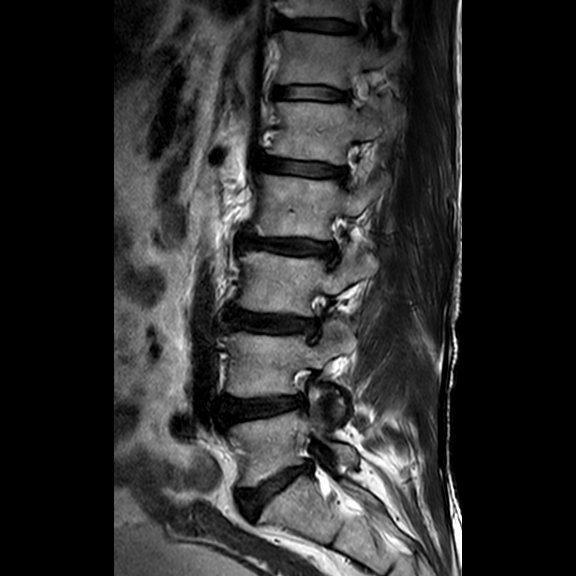RFS2: (293, 285, 337, 350), (284, 359, 321, 419)
